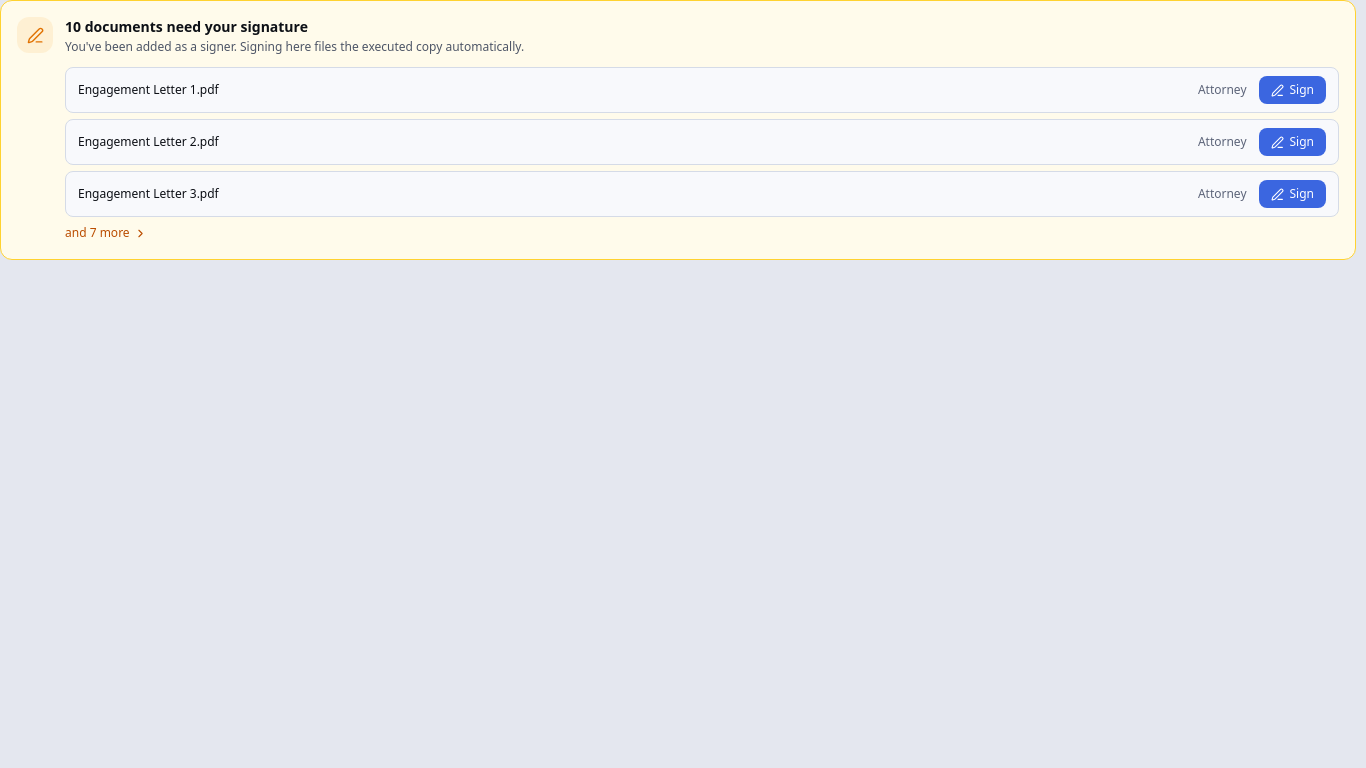
Test case: NeedsSignatureBanner › closes the dialog on Escape
Click the button "and 7 more" at (106, 233), box [65,225,147,241]
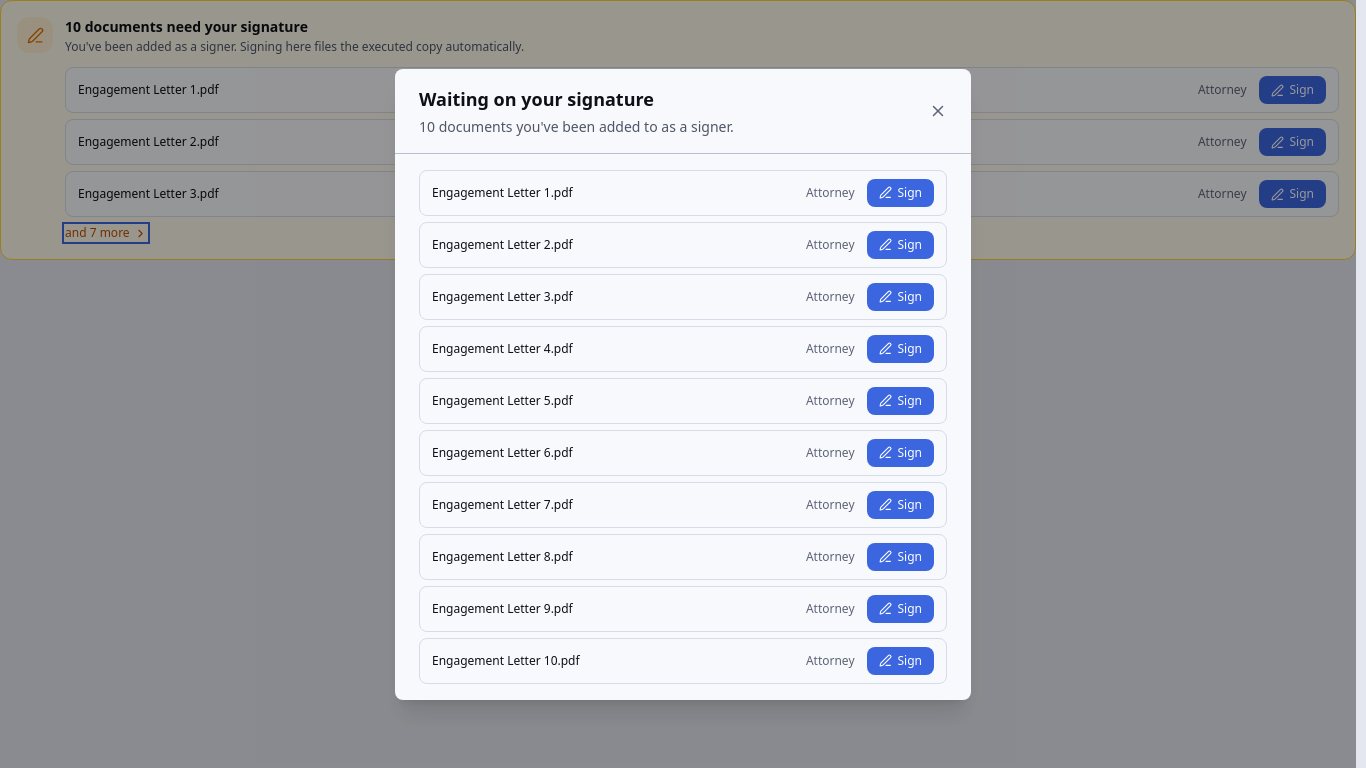
Expected: the dialog is shown, [395,68,971,700]
Press Escape
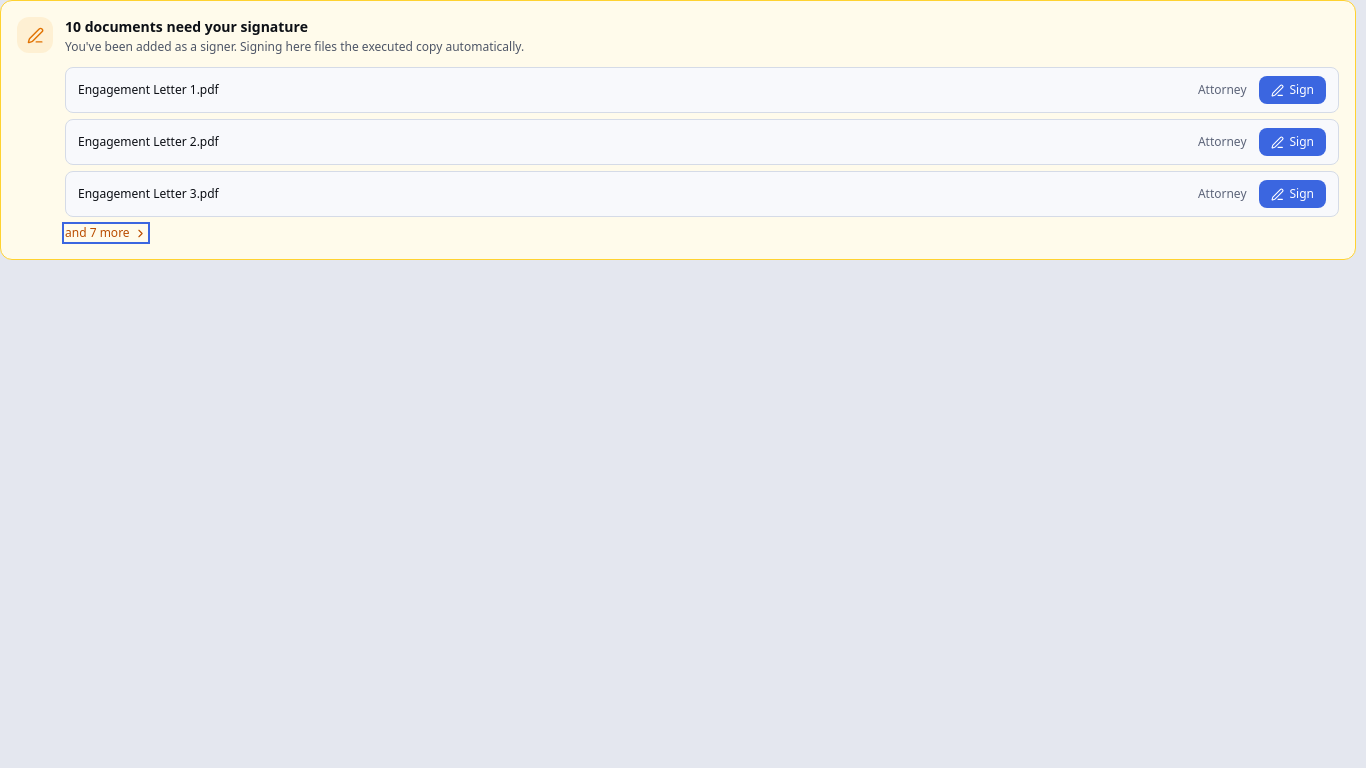
Expected: the dialog is gone
